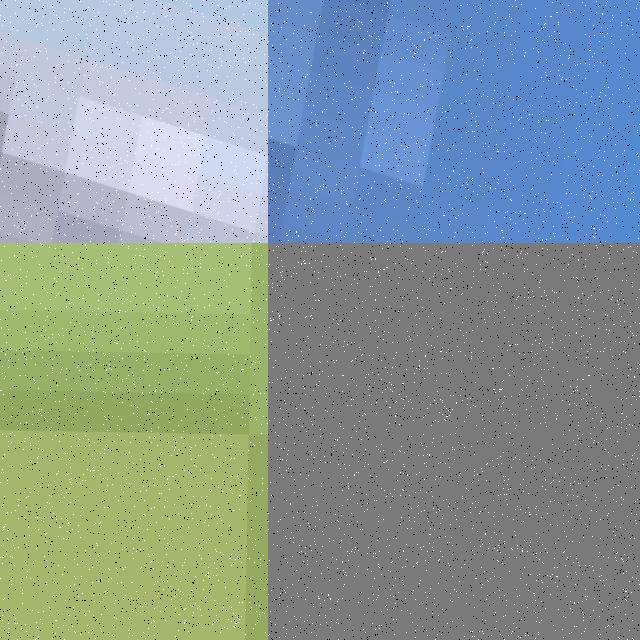0: (268, 0, 640, 243)
drone: (0, 0, 268, 243)
